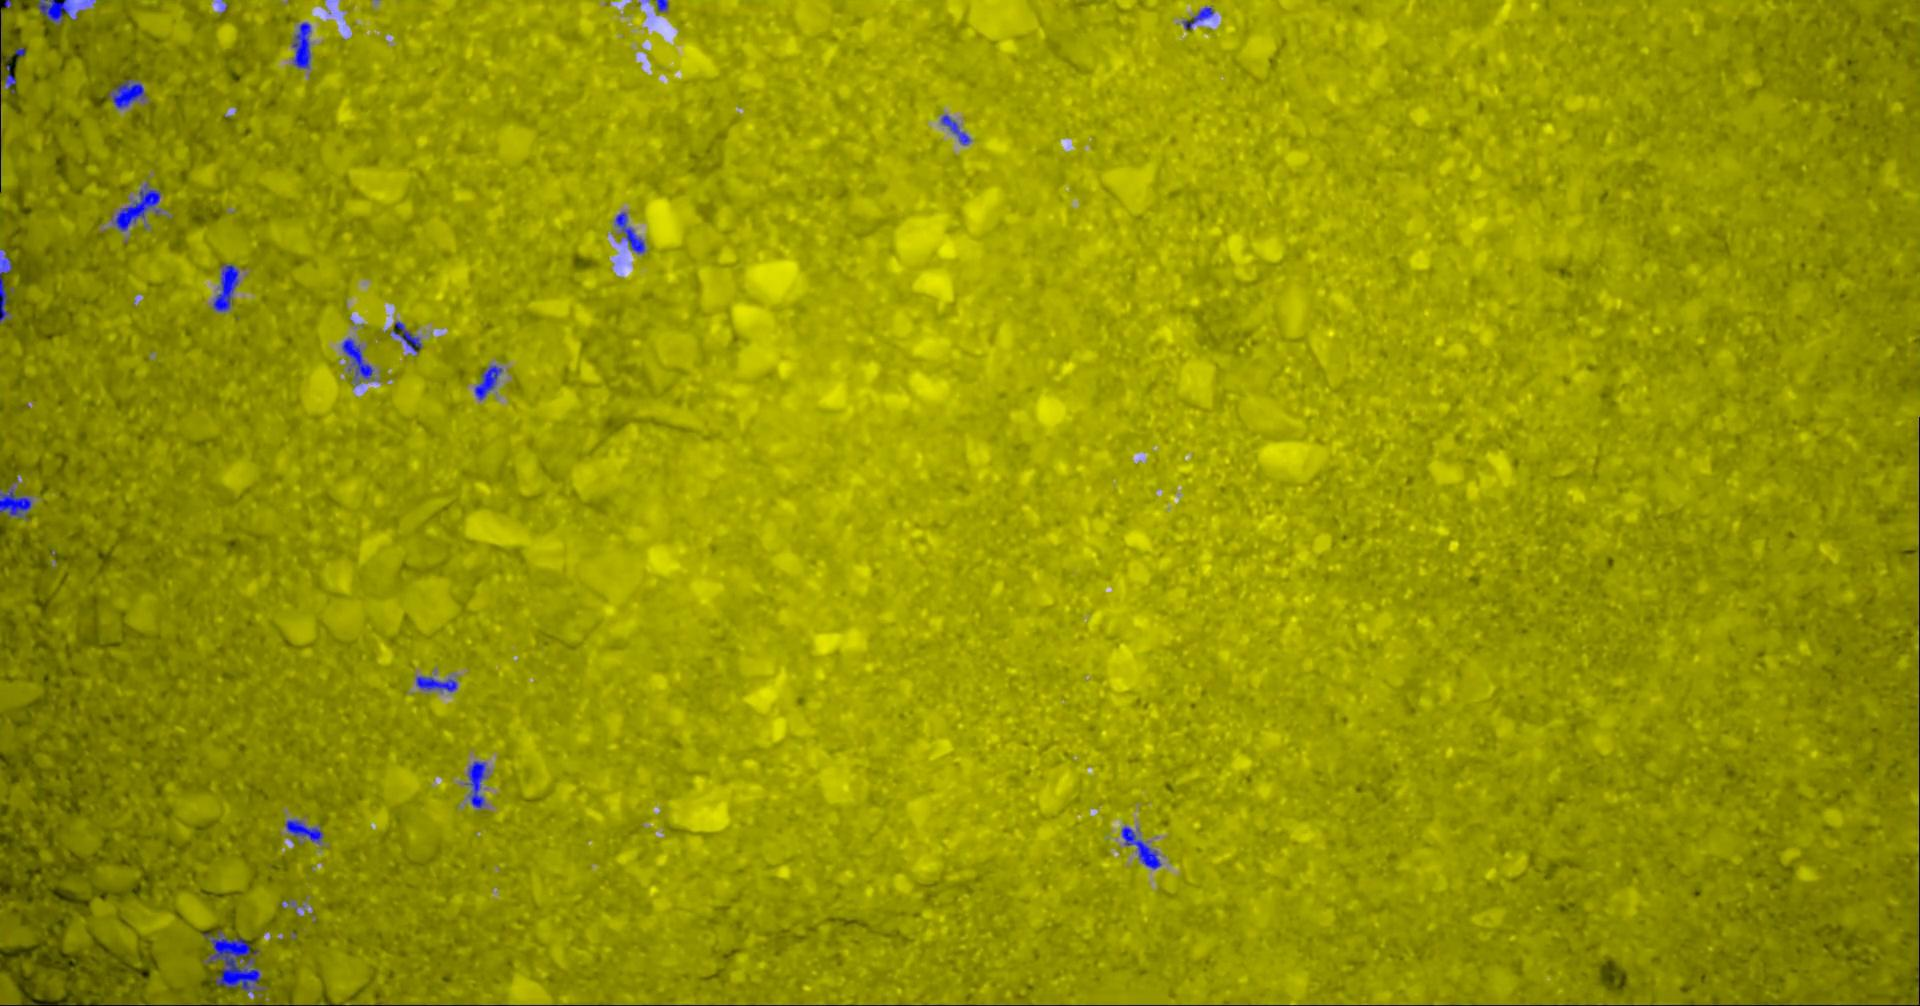ant: (113, 184, 160, 230), (1121, 826, 1161, 868), (342, 338, 372, 384), (212, 264, 237, 311), (615, 212, 644, 253), (108, 79, 143, 108), (474, 365, 502, 399), (940, 114, 970, 144), (392, 321, 422, 352), (0, 488, 30, 517), (465, 761, 484, 807), (284, 819, 323, 842), (292, 22, 310, 67), (0, 257, 11, 323), (37, 0, 70, 22), (415, 674, 457, 691), (1182, 8, 1213, 29), (0, 58, 17, 93), (655, 0, 667, 11)
